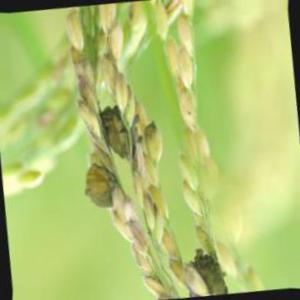False Smut: (194, 247, 232, 300), (102, 104, 137, 156), (85, 162, 115, 215)
